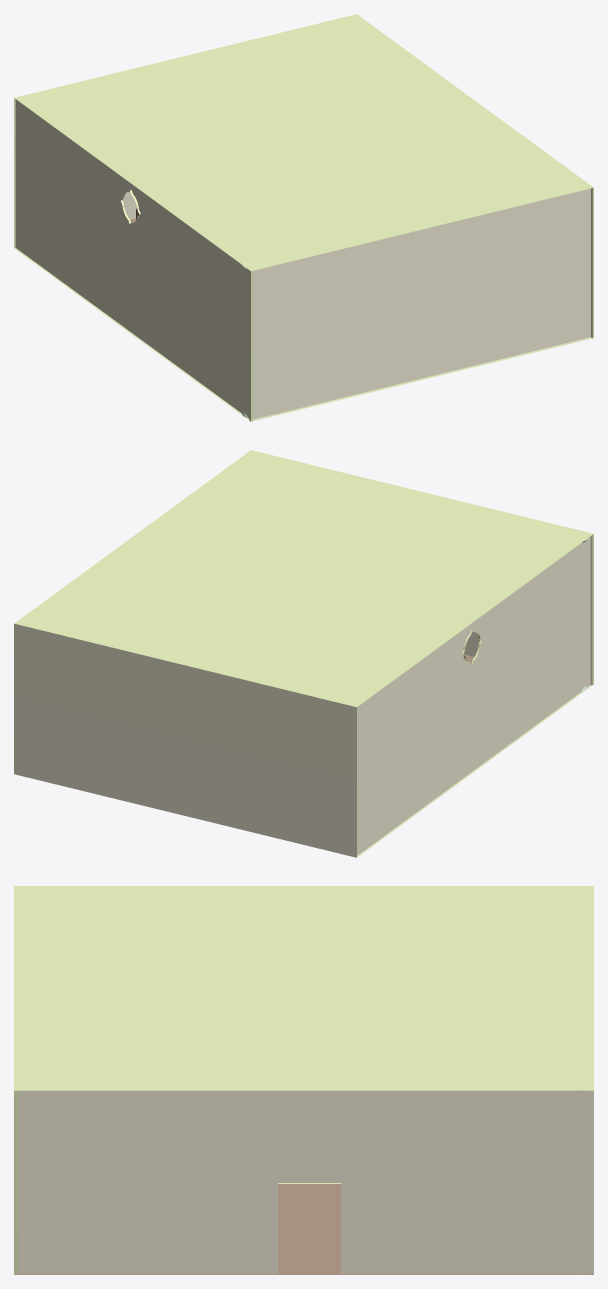
Rendered from Spiritual room.glb.
3 views of the same model, one above another, from view 1: azimuth 30°, elevation 25°; view 2: azimuth 150°, elevation 25°; view 3: azimuth 270°, elevation 25° (orthographic). The views are drawn at different scales.
Visible parts, largest first — view 1: Cube; view 2: Cube; view 3: Cube.
Boxes of the visible parts, <box> form: Cube: <box>14,14,593,421</box>; Cube: <box>14,450,593,857</box>; Cube: <box>14,886,593,1274</box>.
Size of the model in its own units: 32.79 by 13.84 by 39.26.
